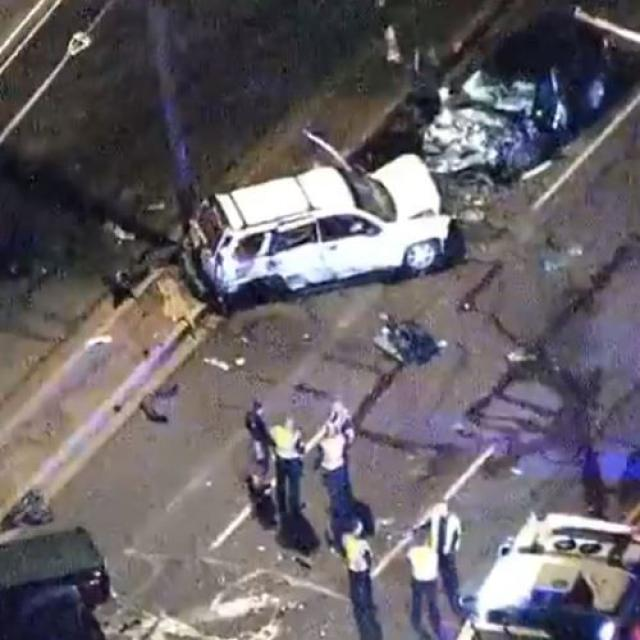traffic_incident: (174, 130, 447, 318), (410, 13, 624, 174)
